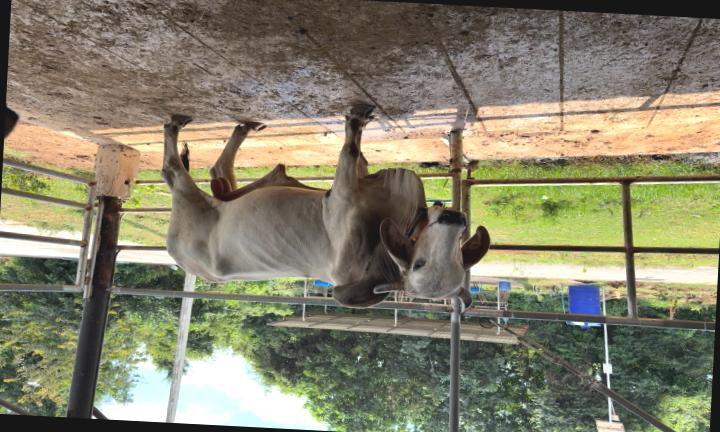Brahman: (162, 105, 489, 307)
